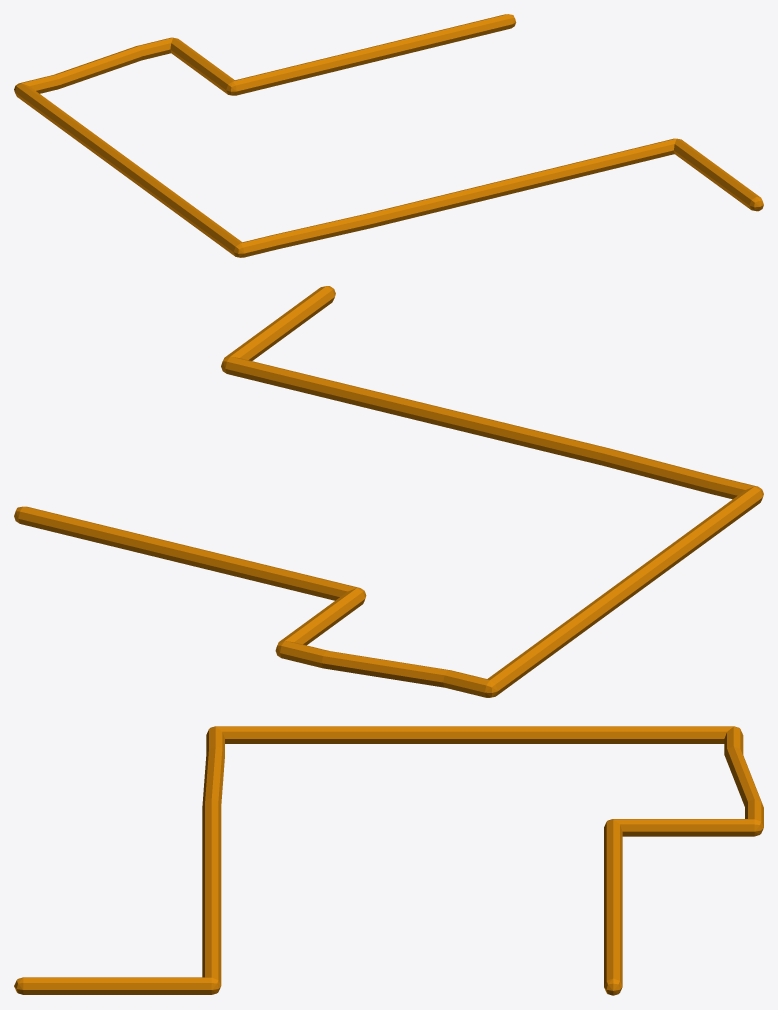
3 renders of one model, top to bottom at view 1: azimuth 30°, elevation 25°; view 2: azimuth 150°, elevation 25°; view 3: azimuth 270°, elevation 25°, orthographic. The views are drawn at different scales.
Size of the model in its own units: 653 by 20 by 796.
